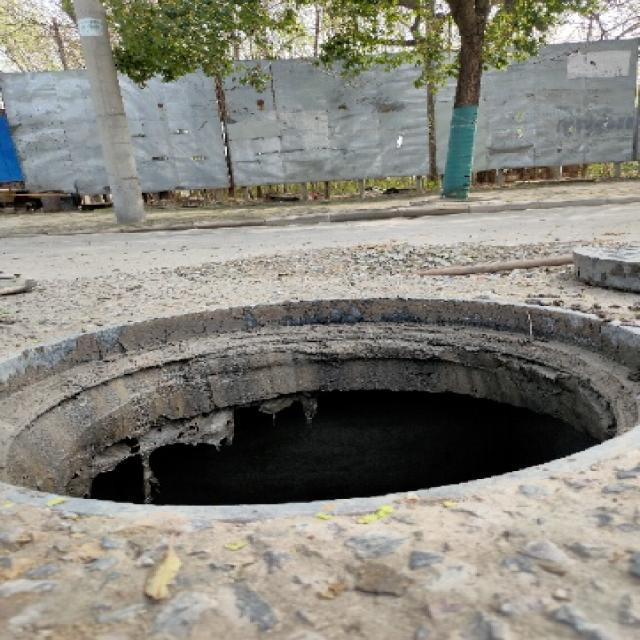Faulty: (0, 280, 640, 528)
